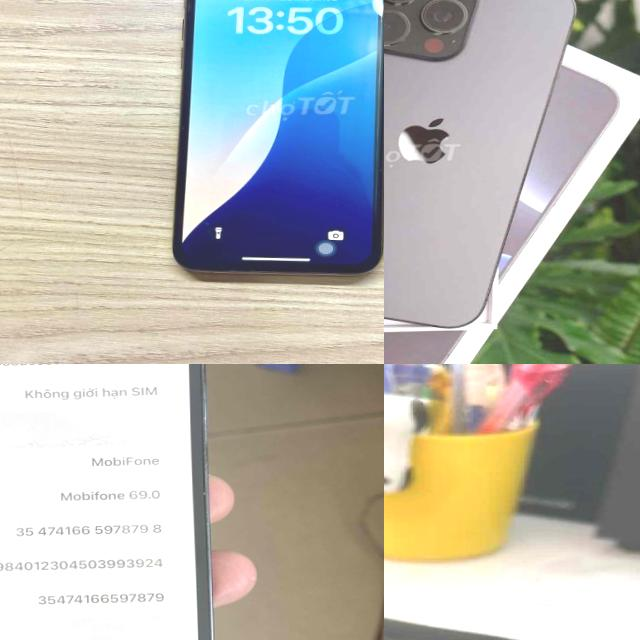gen_12_13: (0, 364, 237, 640)
gen_16: (384, 0, 582, 334)
gen_x_xs: (159, 0, 384, 290)
